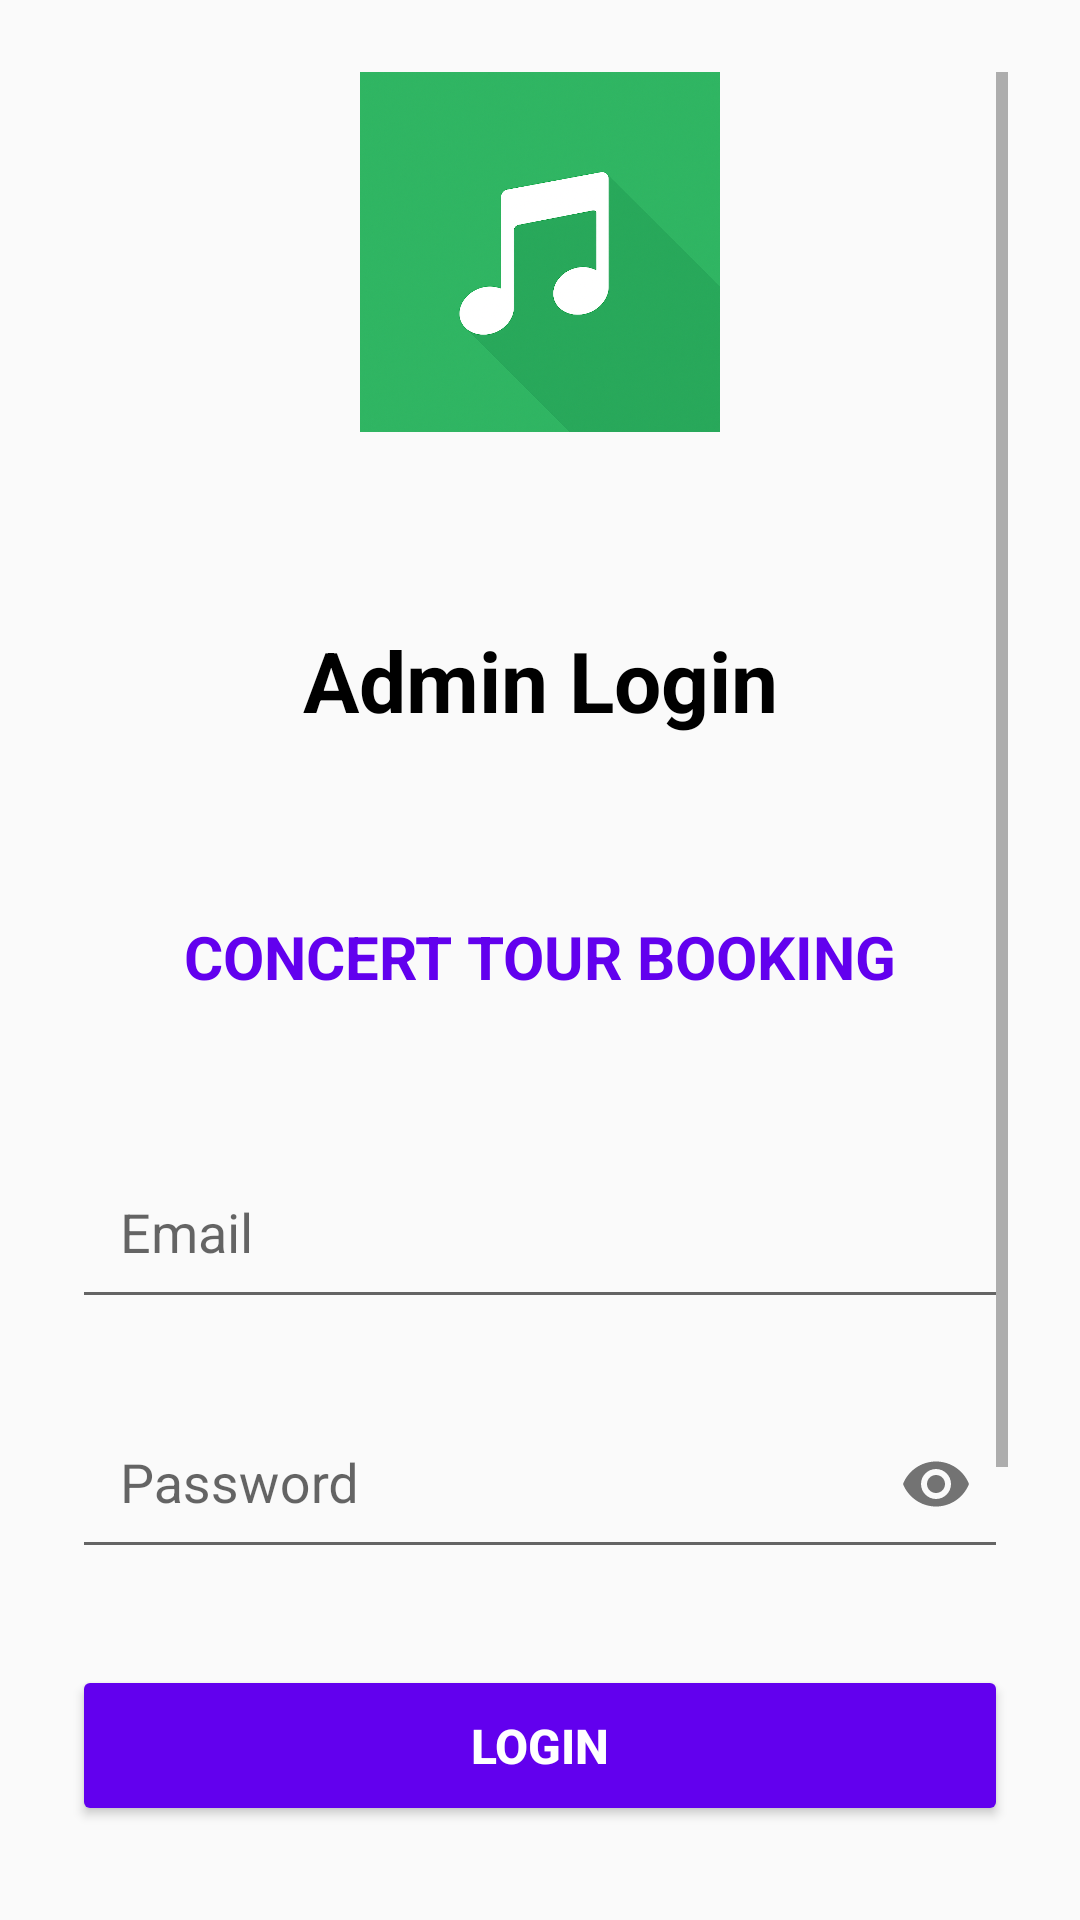

Icon bounding boxes for this 1080w x 1920h phone screenshot, format {"left": x1, "top": y1, "right": x2, "bottom": y2}:
concert: {"left": 360, "top": 72, "right": 720, "bottom": 432}
